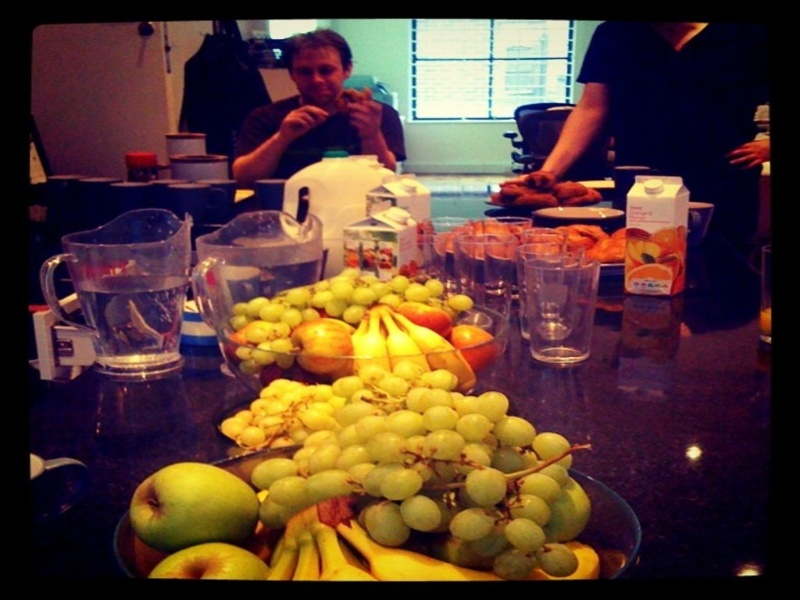apple: (115, 458, 258, 543), (285, 316, 356, 374)
banana: (356, 299, 471, 387)
person: (240, 27, 406, 171)
